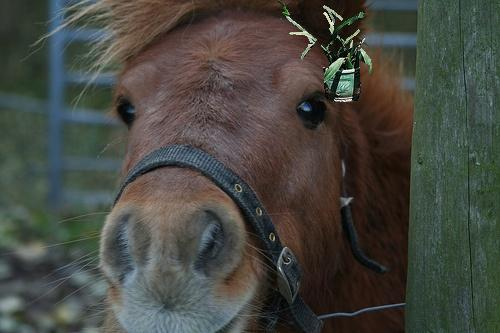tampered: (279, 1, 372, 102)
